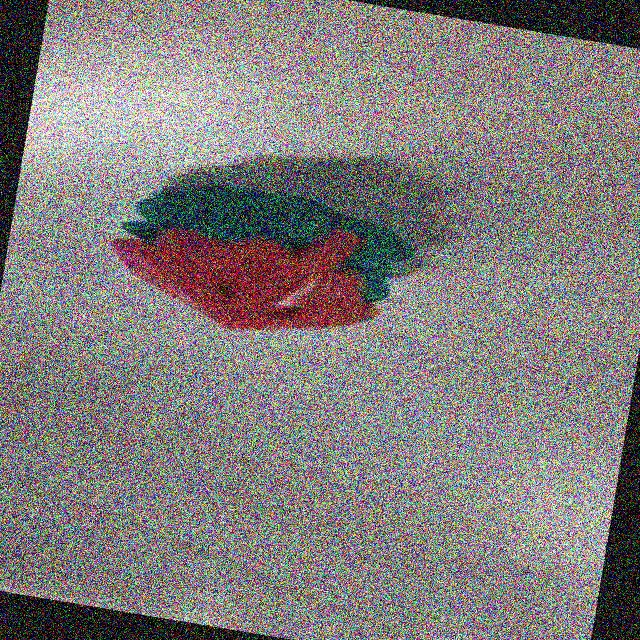House: (100, 168, 429, 361)
